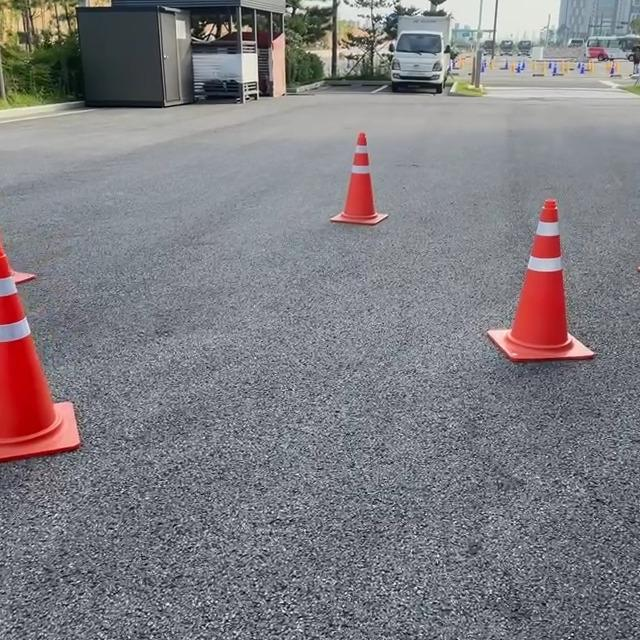fallen_object: (0, 223, 99, 566), (456, 165, 586, 377), (300, 106, 381, 219)
